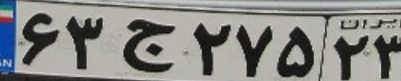character: (115, 10, 180, 76), (186, 16, 234, 80), (62, 7, 107, 73), (19, 9, 62, 70), (234, 17, 276, 79), (275, 20, 318, 80), (329, 31, 370, 81), (371, 30, 401, 81)
